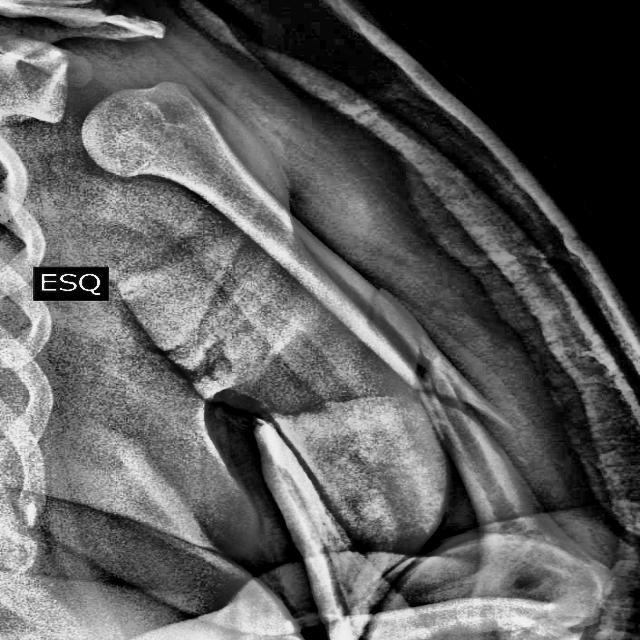fracture: (412, 364, 515, 430), (377, 553, 408, 585), (369, 289, 379, 309), (415, 344, 425, 358)
